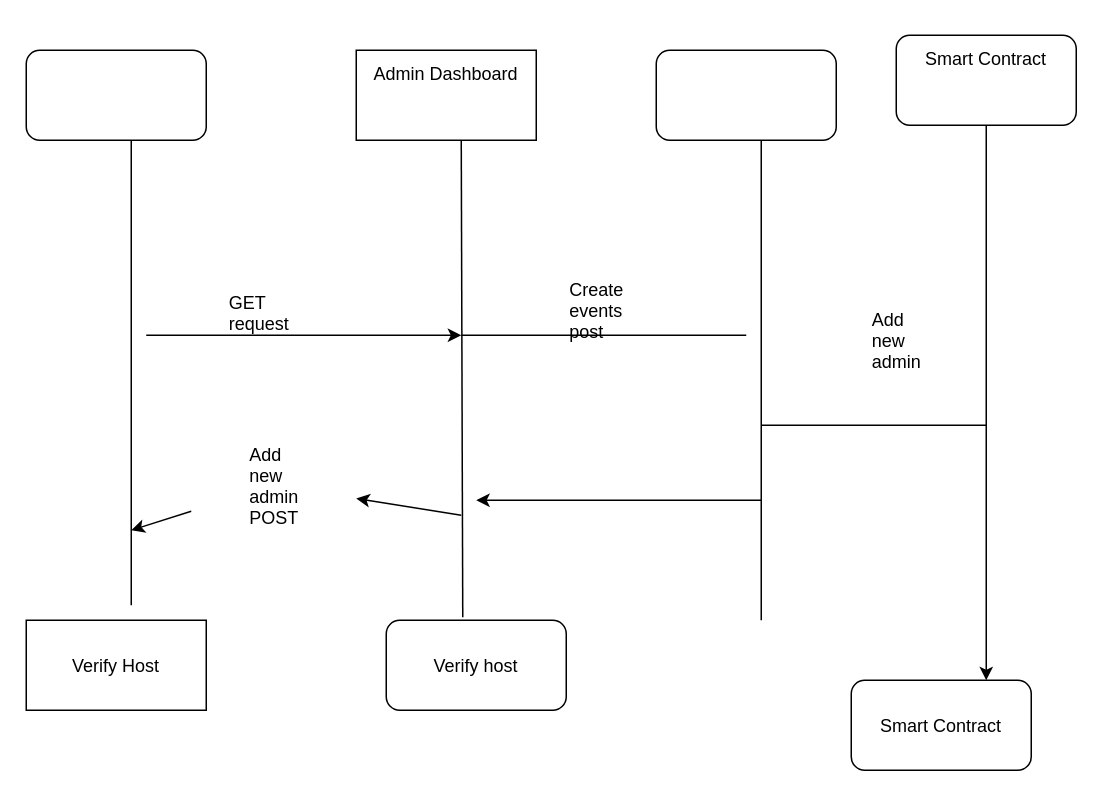
The diagram is 1103 pixels wide and 797 high, and some of its shapes have lost their labels. The shapes that lost their labels are listed below. From the top down, each one's centre as x and y in pixels, then its label:
the point at 115,94: iOS App
the point at 745,94: Express API
